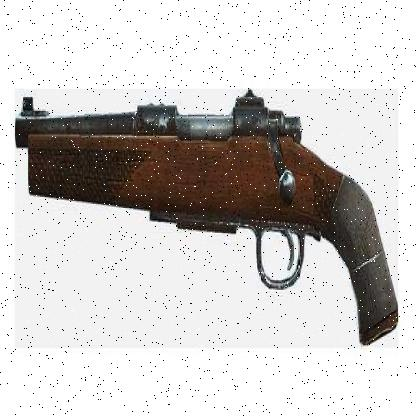rifle: (11, 72, 405, 362)
